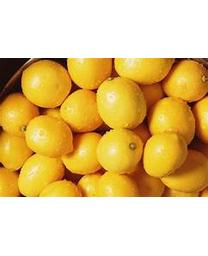lemon: (96, 77, 147, 129), (21, 60, 71, 107), (19, 151, 64, 196), (27, 116, 74, 159), (98, 129, 142, 172), (144, 133, 187, 177)
